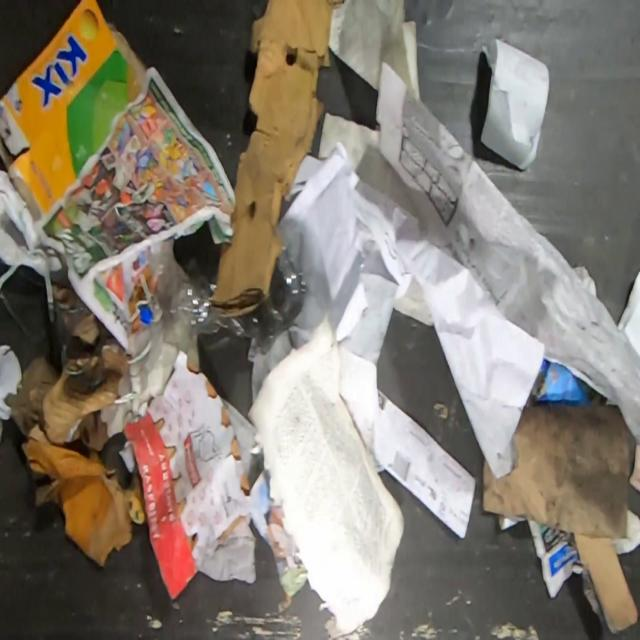cardboard: (212, 0, 340, 318), (119, 345, 257, 602), (483, 401, 636, 628), (0, 0, 150, 220), (2, 266, 129, 452), (20, 436, 144, 568)
rigid_plastic: (140, 259, 302, 351)
